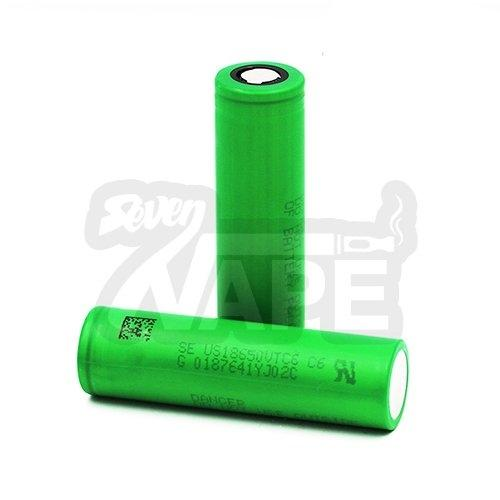Battery: (71, 301, 414, 439), (209, 54, 309, 330)
